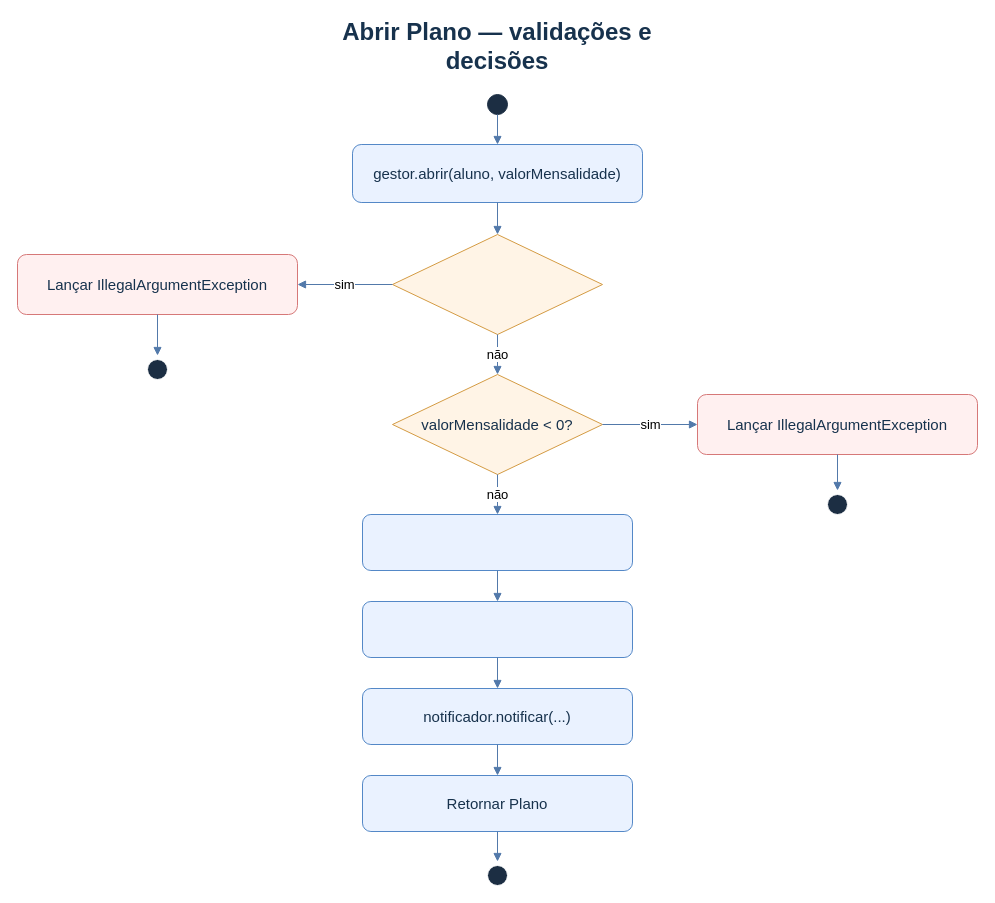
Some shapes in this 995 by 903 pixel diagram are drawn without their labels. The centre of each missing label's shape, as x and y in pixels:
"Adicionar Plano aos registros" goes at (x=497, y=629).
"aluno == null?" goes at (x=497, y=284).
"Criar Plano (estado = ativo)" goes at (x=497, y=542).
